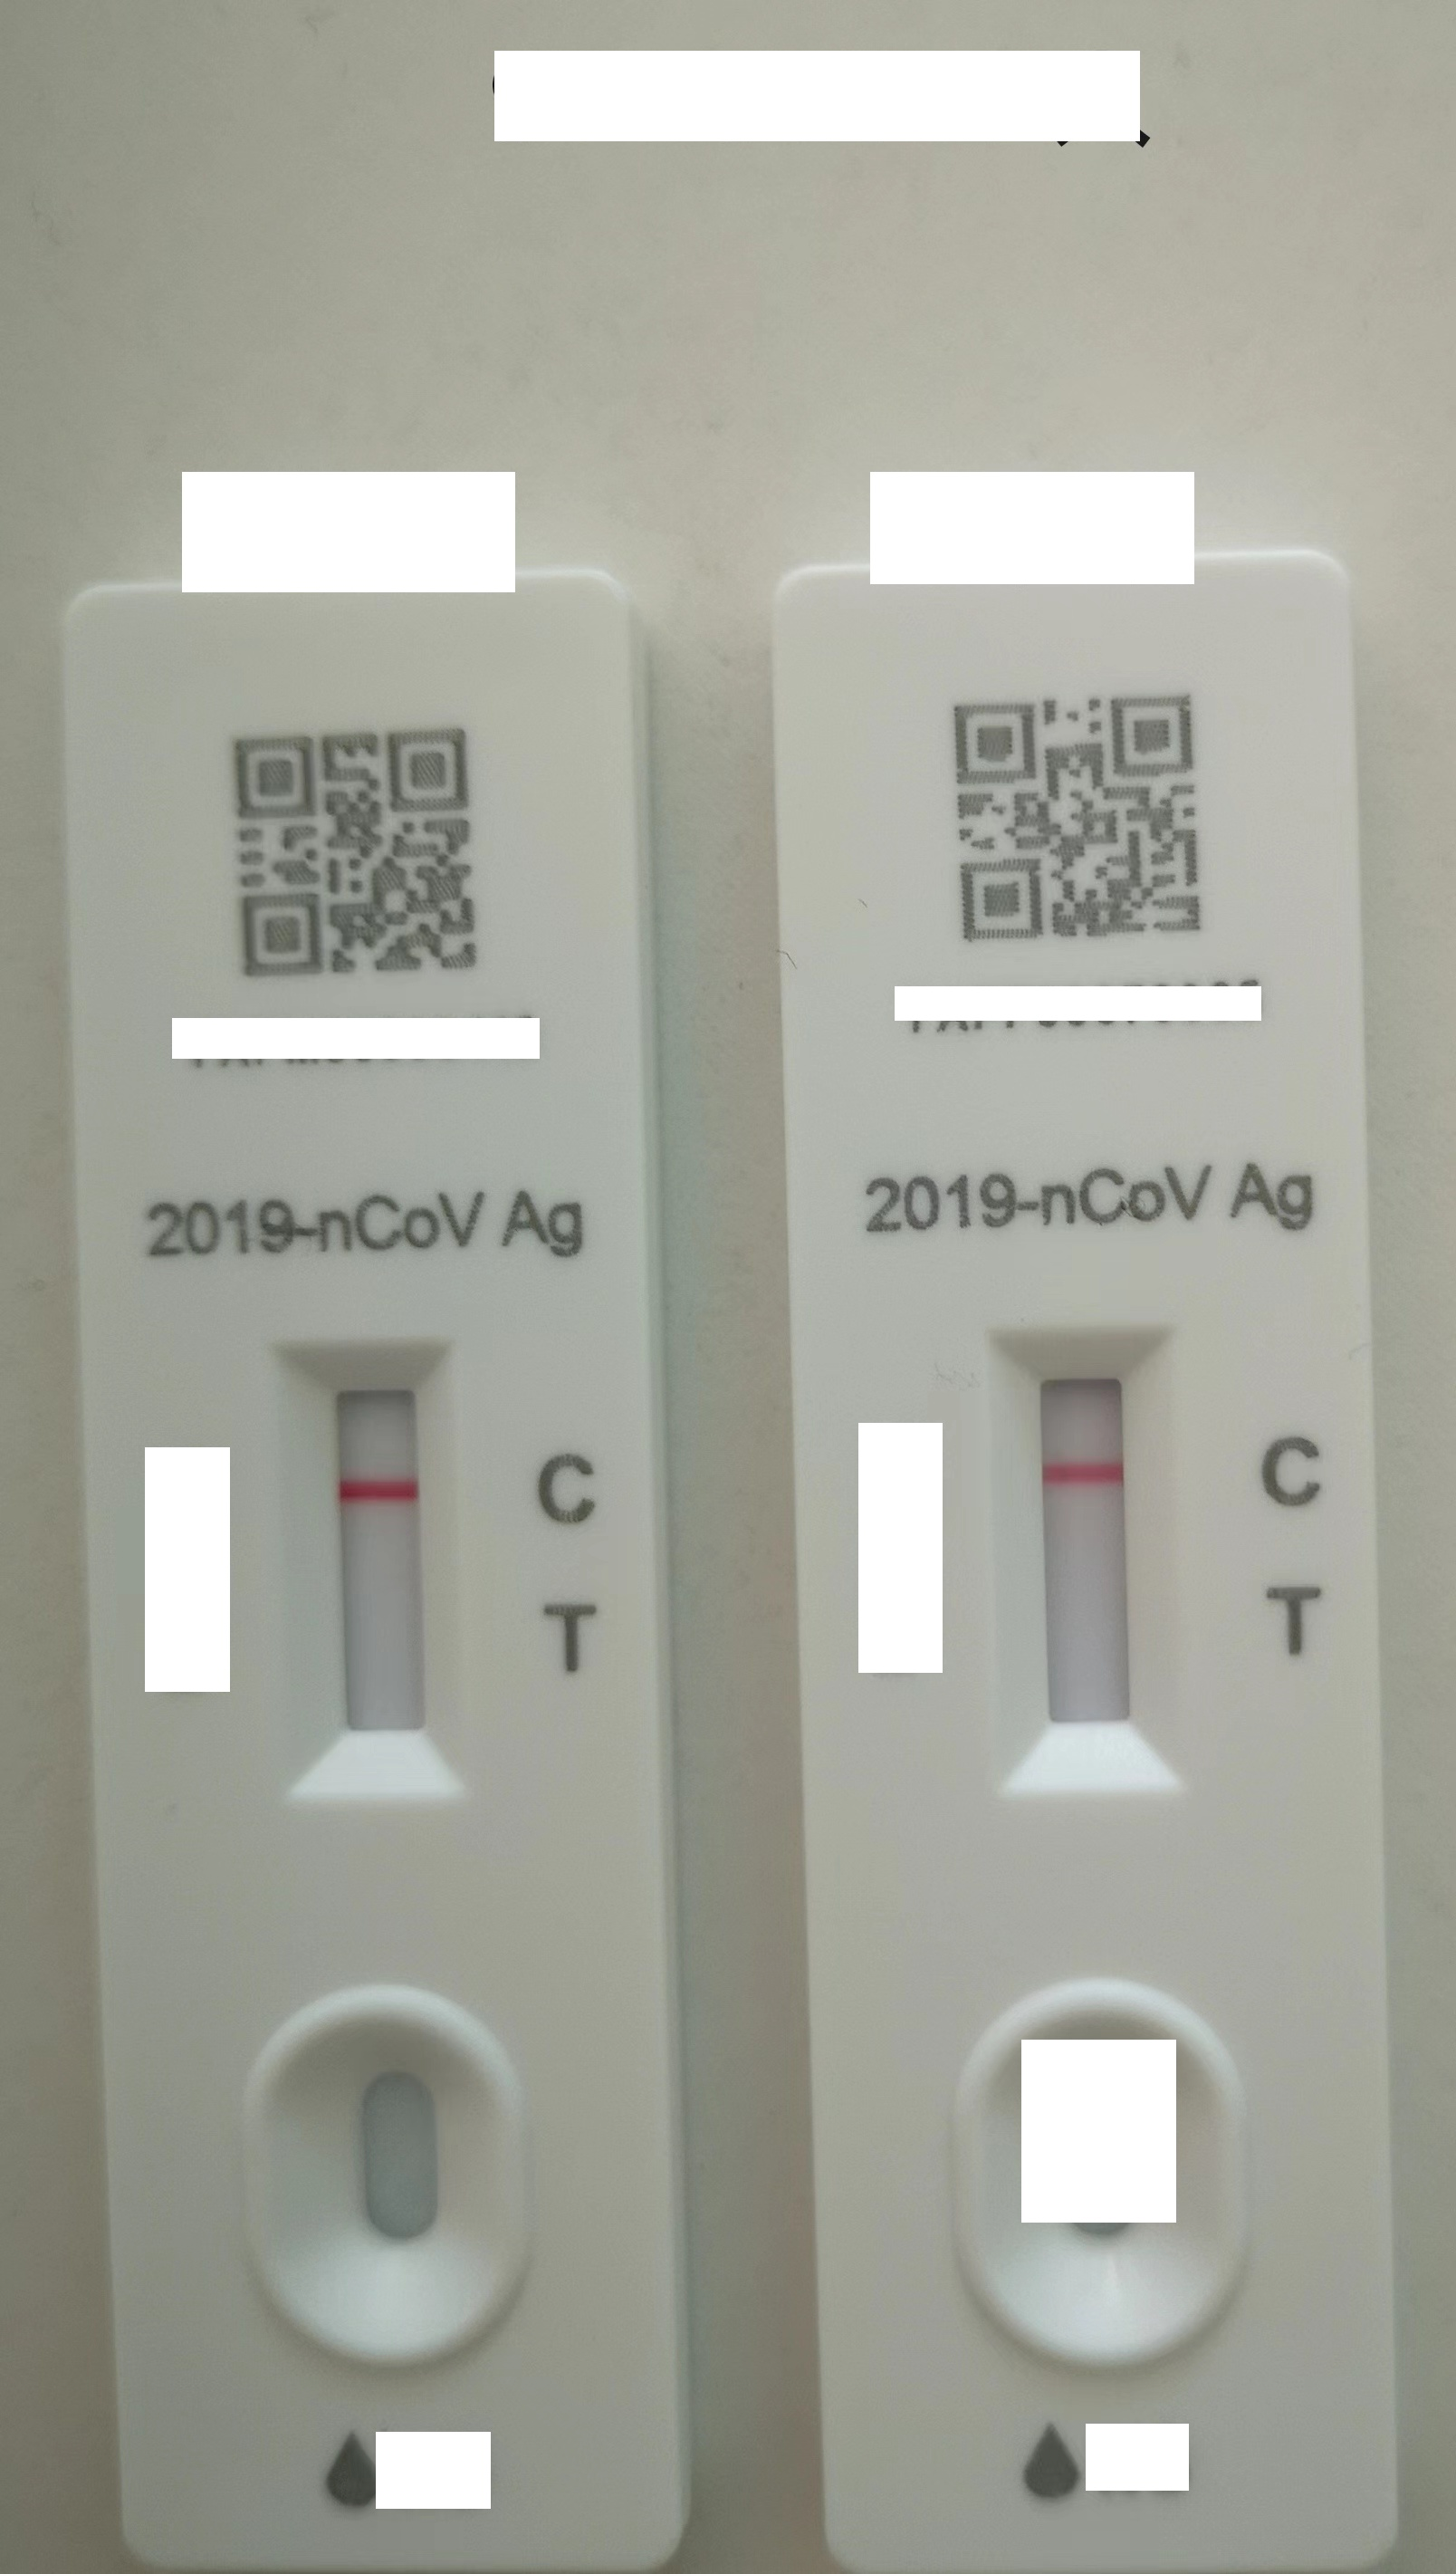negative: (283, 1329, 451, 1789), (1005, 1319, 1159, 1777)
